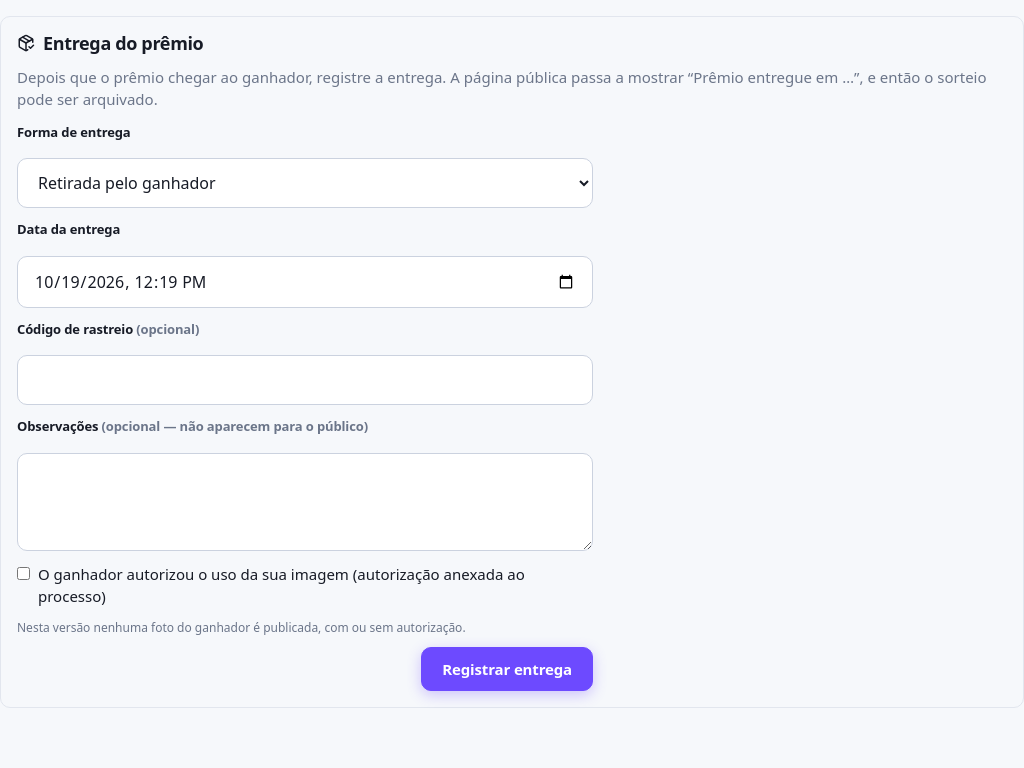
it: registrar a entrega › a API recusa (ex.: ja arquivado): a mensagem aparece e nada e dado como salvo
Click the button "Registrar entrega" at (507,669), box [421,647,593,691]
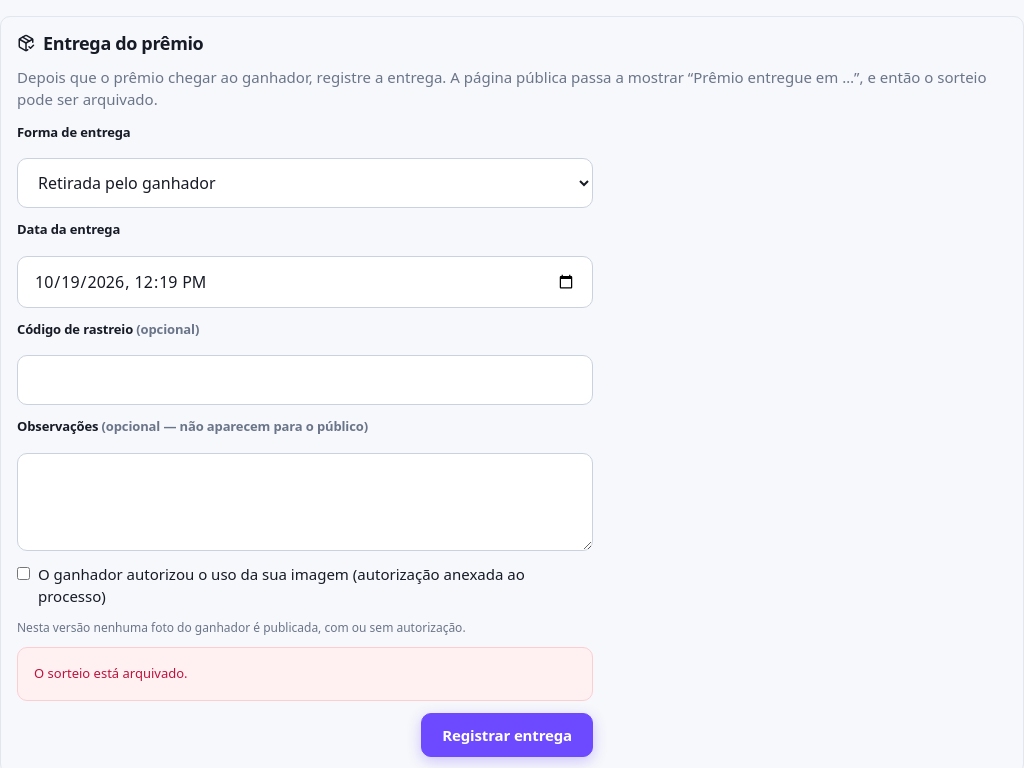
Expected: the text "O sorteio está arquivado." is shown, [34,664,188,682]
